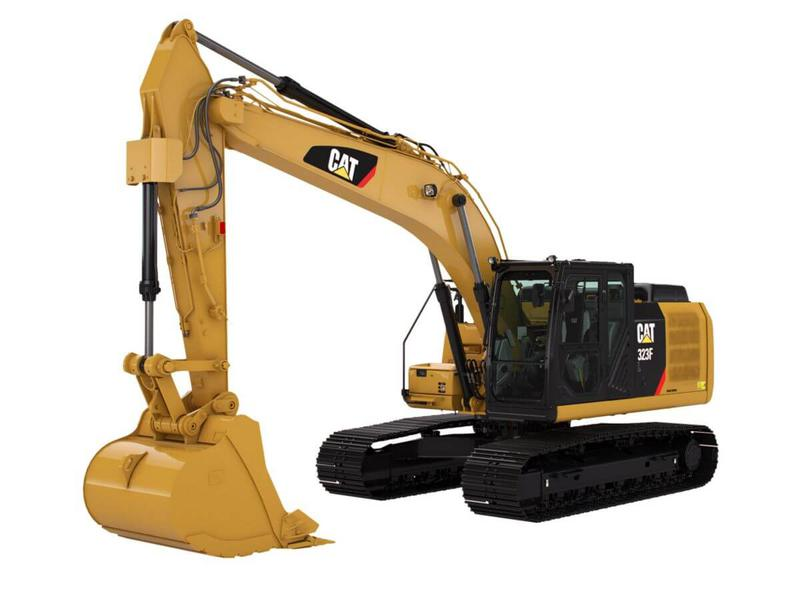shovel: (75, 11, 722, 555)
